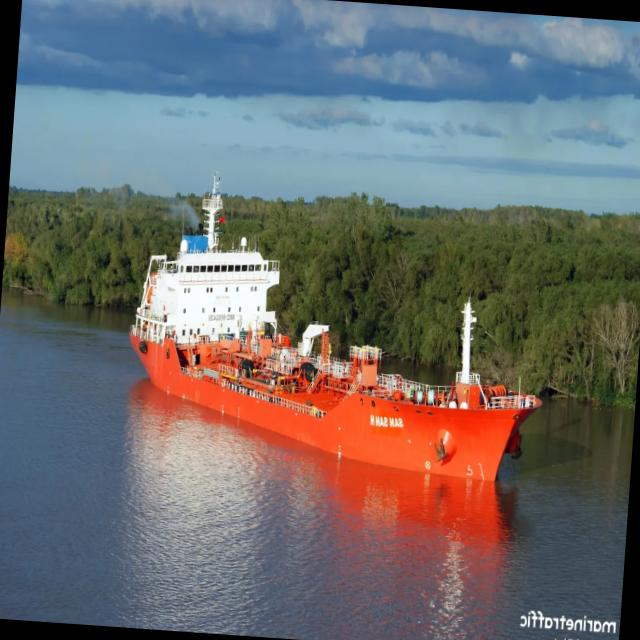Tanker: (129, 174, 541, 480)
